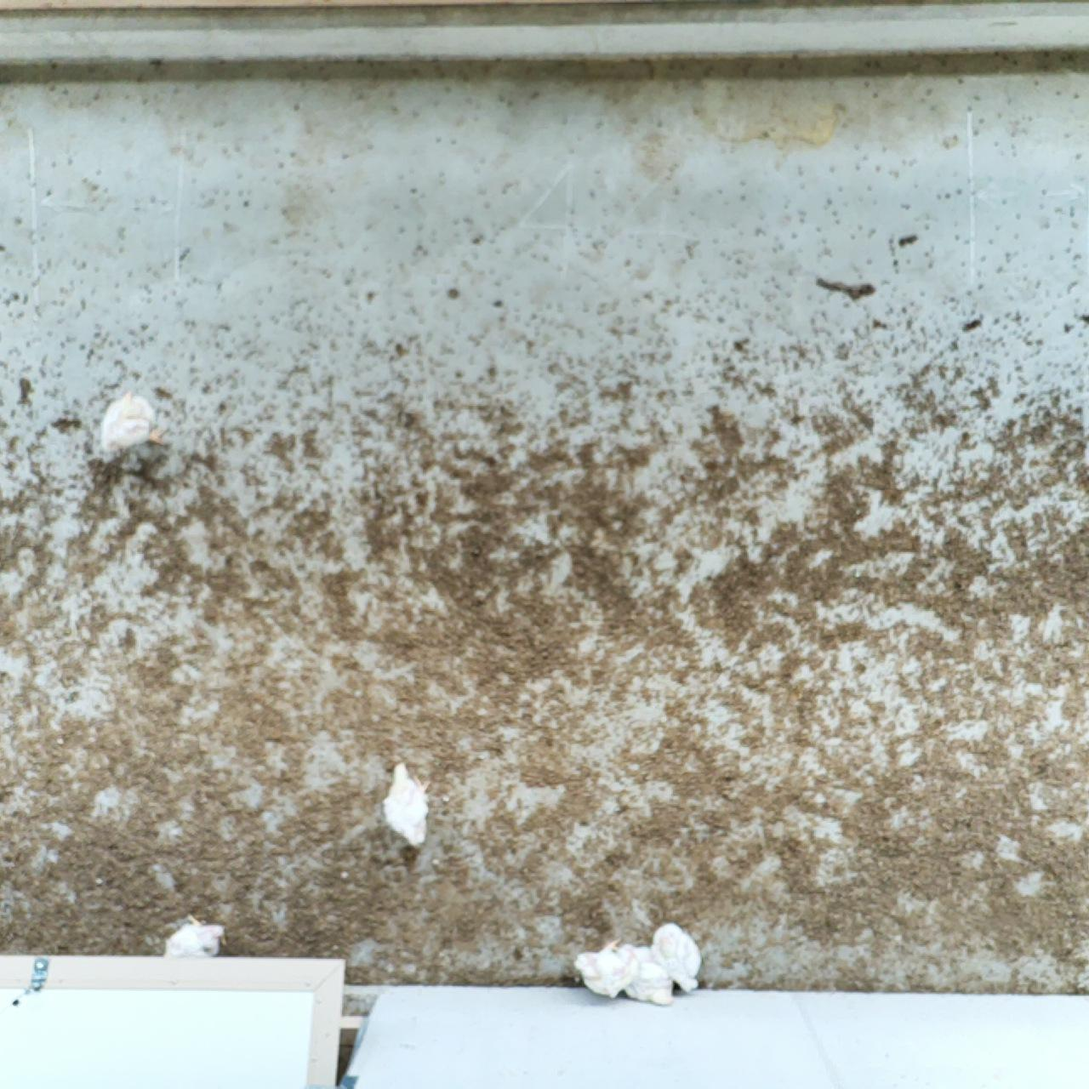chicken: (93, 386, 171, 459), (380, 758, 436, 852), (573, 936, 643, 1000), (647, 918, 702, 997), (155, 911, 230, 960), (631, 941, 677, 1010)
